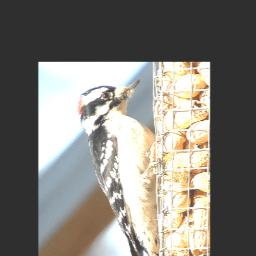Woodpecker: (76, 80, 165, 256)
